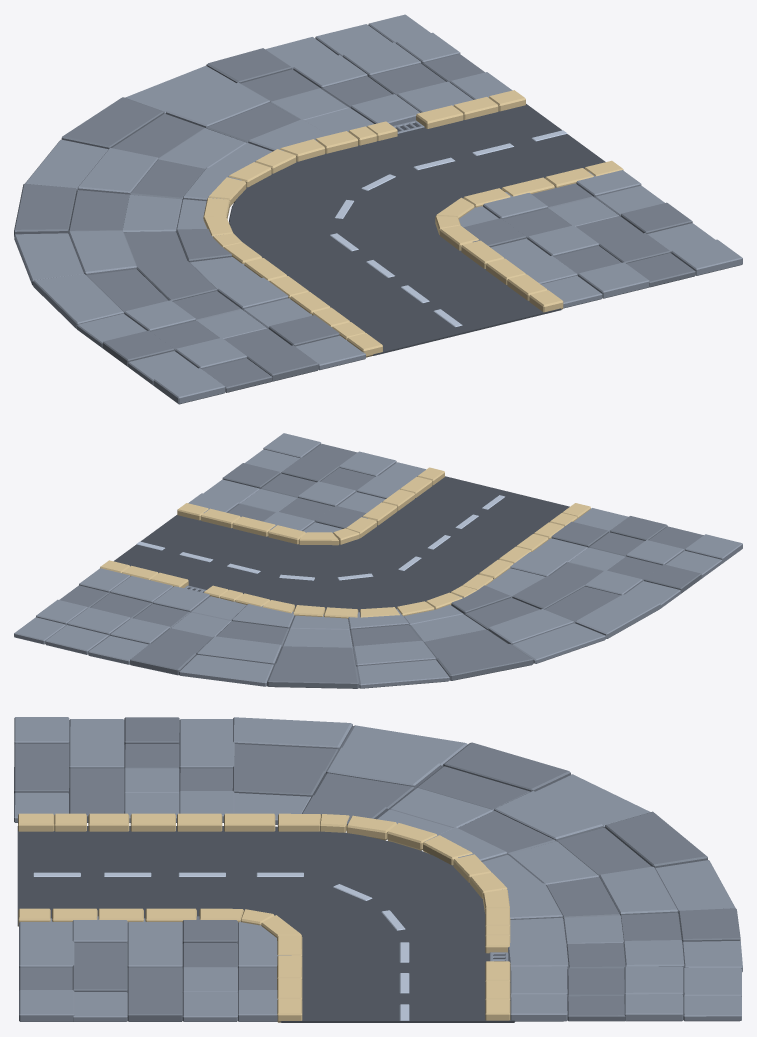
3 views of the same model, one above another, from view 1: azimuth 30°, elevation 25°; view 2: azimuth 150°, elevation 25°; view 3: azimuth 270°, elevation 25° (orthographic). The views are drawn at different scales.
Visible parts, largest first — view 1: Straight_road_1.004; view 2: Straight_road_1.004; view 3: Straight_road_1.004.
Boxes of the visible parts, x1,y1,x2,y2 form: Straight_road_1.004: (14,14,742,404); Straight_road_1.004: (14,433,742,688); Straight_road_1.004: (14,717,742,1022).
Bounding box in the file's own units: 3750 × 56.94 × 3875.
